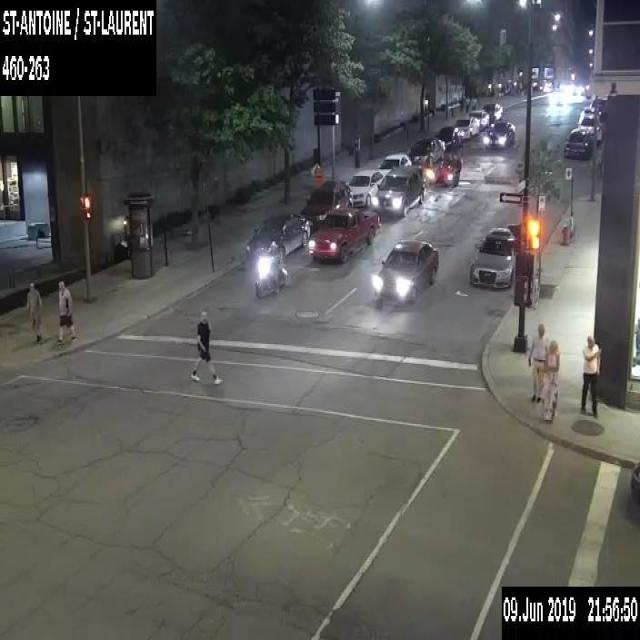construction: (312, 168, 324, 185)
pedestrian: (189, 310, 224, 386), (579, 333, 603, 419), (527, 321, 548, 402), (543, 337, 559, 420), (56, 279, 76, 341), (25, 280, 43, 341), (595, 145, 602, 179), (464, 93, 470, 112), (470, 94, 476, 109)
vehicle: (369, 236, 439, 309), (308, 206, 378, 262), (246, 212, 310, 262), (468, 224, 515, 291), (372, 164, 424, 216), (298, 178, 349, 230), (255, 240, 288, 298), (347, 168, 384, 207), (407, 136, 444, 165), (428, 153, 461, 185), (563, 127, 591, 159), (377, 150, 411, 176), (485, 120, 515, 147), (434, 124, 463, 150), (579, 115, 603, 142), (454, 115, 479, 138), (468, 108, 488, 130), (481, 102, 502, 122), (590, 96, 606, 119), (578, 106, 600, 122)
